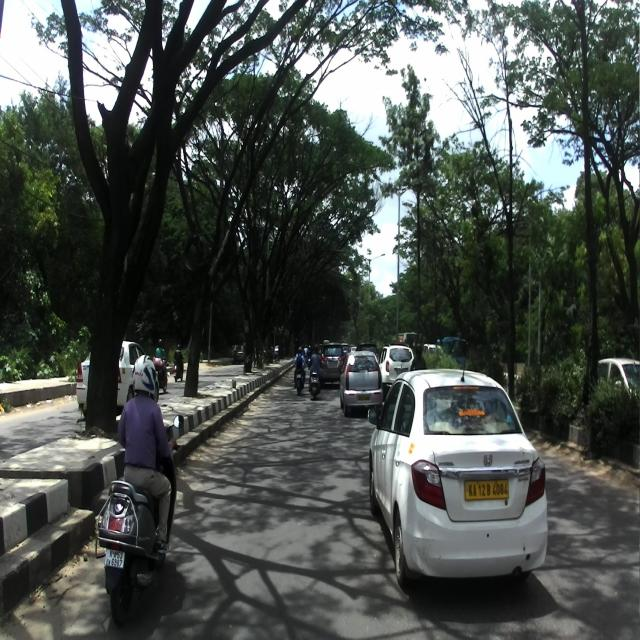car: (367, 358, 548, 590), (337, 342, 384, 418)
scooter: (95, 414, 185, 627)
